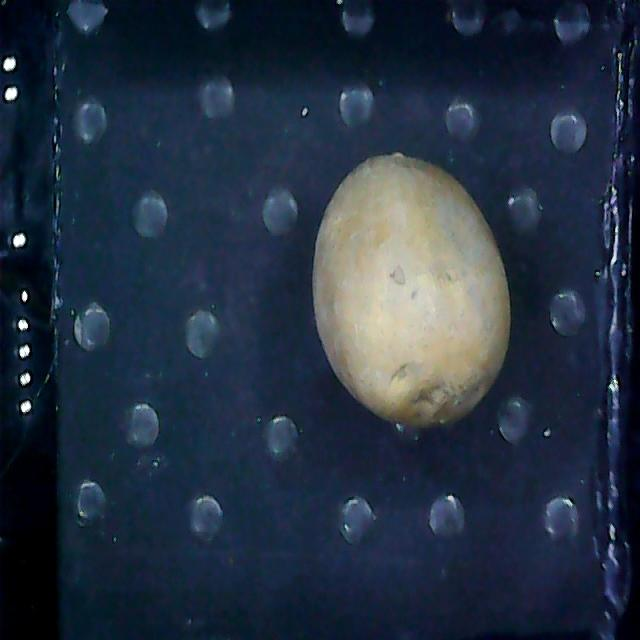-Kitchen waste - potato-: (312, 149, 512, 434)
